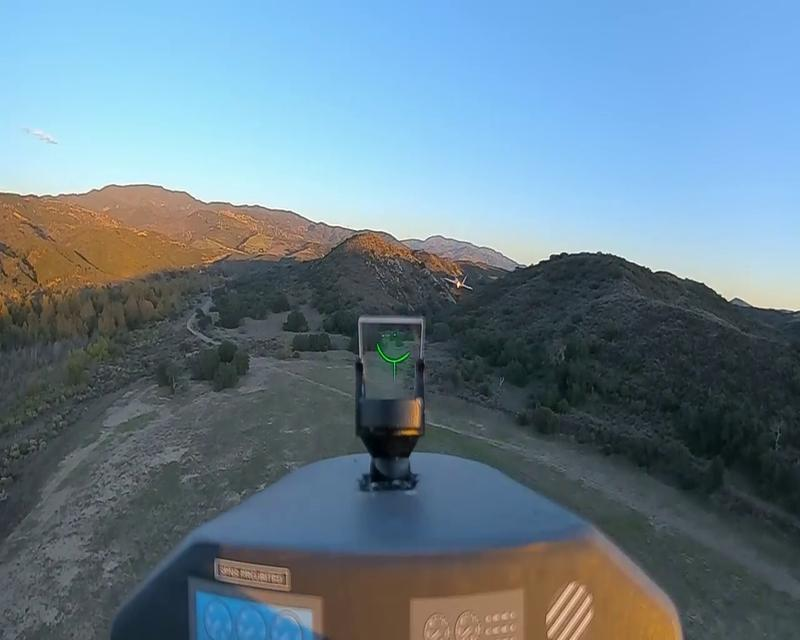UAV: (443, 274, 476, 292)
